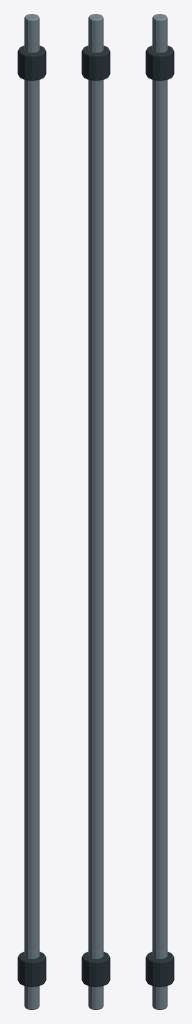
File: SM_Lab_ReactorStructure__SupportStrut_0.fbx
The picture shows the model from 3 angles, left to right: view 1: azimuth 90°, elevation 25°; view 2: azimuth 210°, elevation 25°; view 3: azimuth 270°, elevation 25°; orthographic projection.
Parts seen in each view (by area): view 1: SM_Lab_ReactorStructure__SupportStrut_0; view 2: SM_Lab_ReactorStructure__SupportStrut_0; view 3: SM_Lab_ReactorStructure__SupportStrut_0.
Boxes of the visible parts, bbox=[...] form: SM_Lab_ReactorStructure__SupportStrut_0: bbox=[17, 14, 46, 1009]; SM_Lab_ReactorStructure__SupportStrut_0: bbox=[81, 14, 110, 1009]; SM_Lab_ReactorStructure__SupportStrut_0: bbox=[145, 14, 174, 1009].
Bounding box in the file's own units: 14 × 14 × 538.
